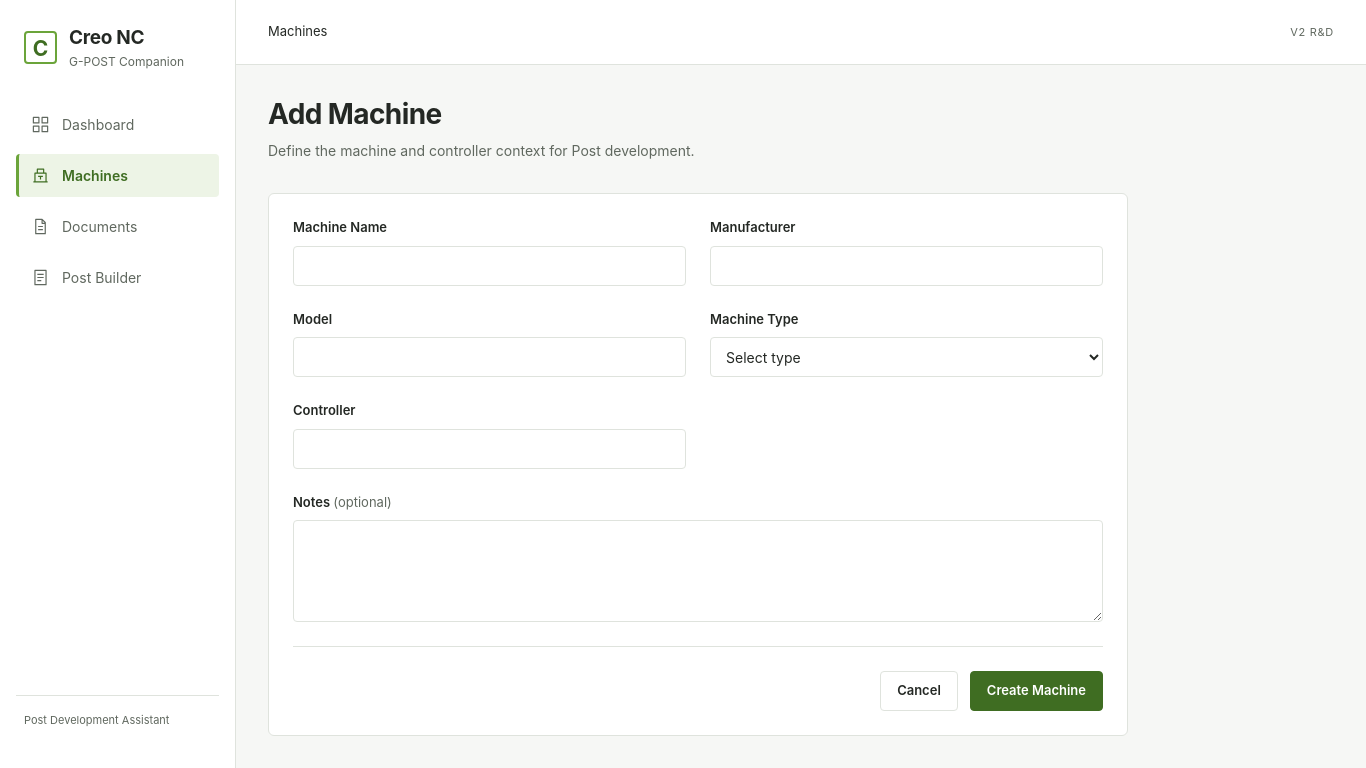
Scenario: Machine management › shows a save failure and re-enables the form
The width and height of the screenshot is (1366, 768).
Type " KLS-1840N Demo " into the field labelled "Machine Name" at (490, 266), box [293,246,686,286]
Type " KENT " into the field labelled "Manufacturer" at (906, 266), box [710,246,1103,286]
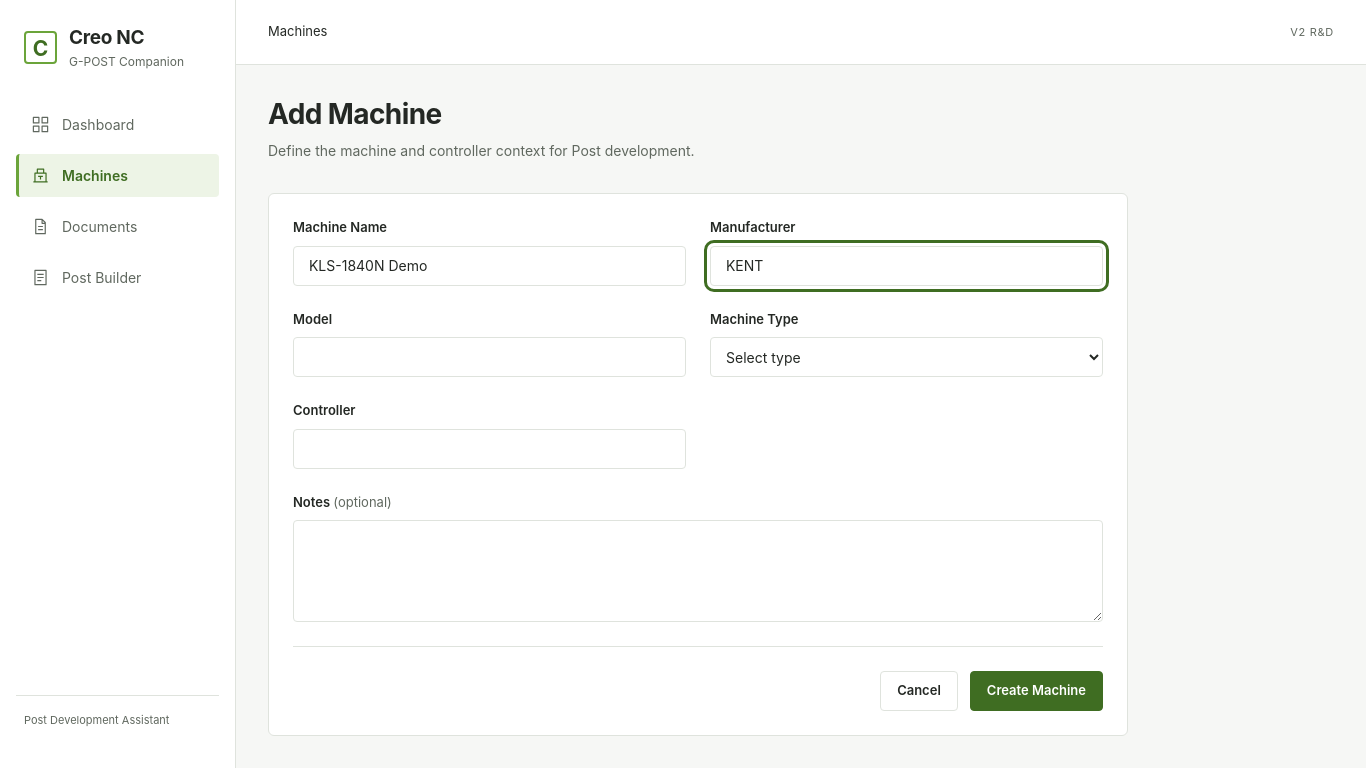
Type " KLS-1840N " into the field labelled "Model" at (490, 357), box [293,337,686,377]
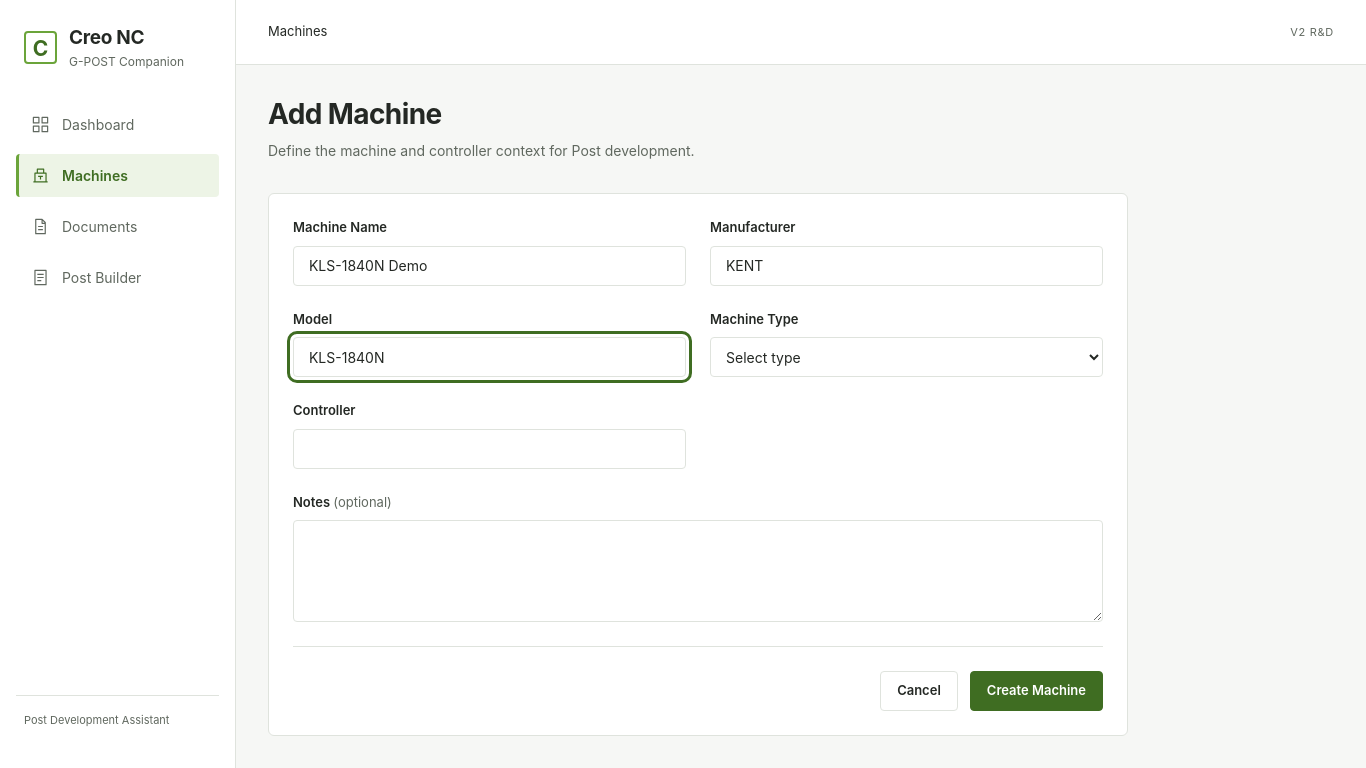
Type " FANUC 0i-TF " into the field labelled "Controller" at (490, 448), box [293,428,686,468]
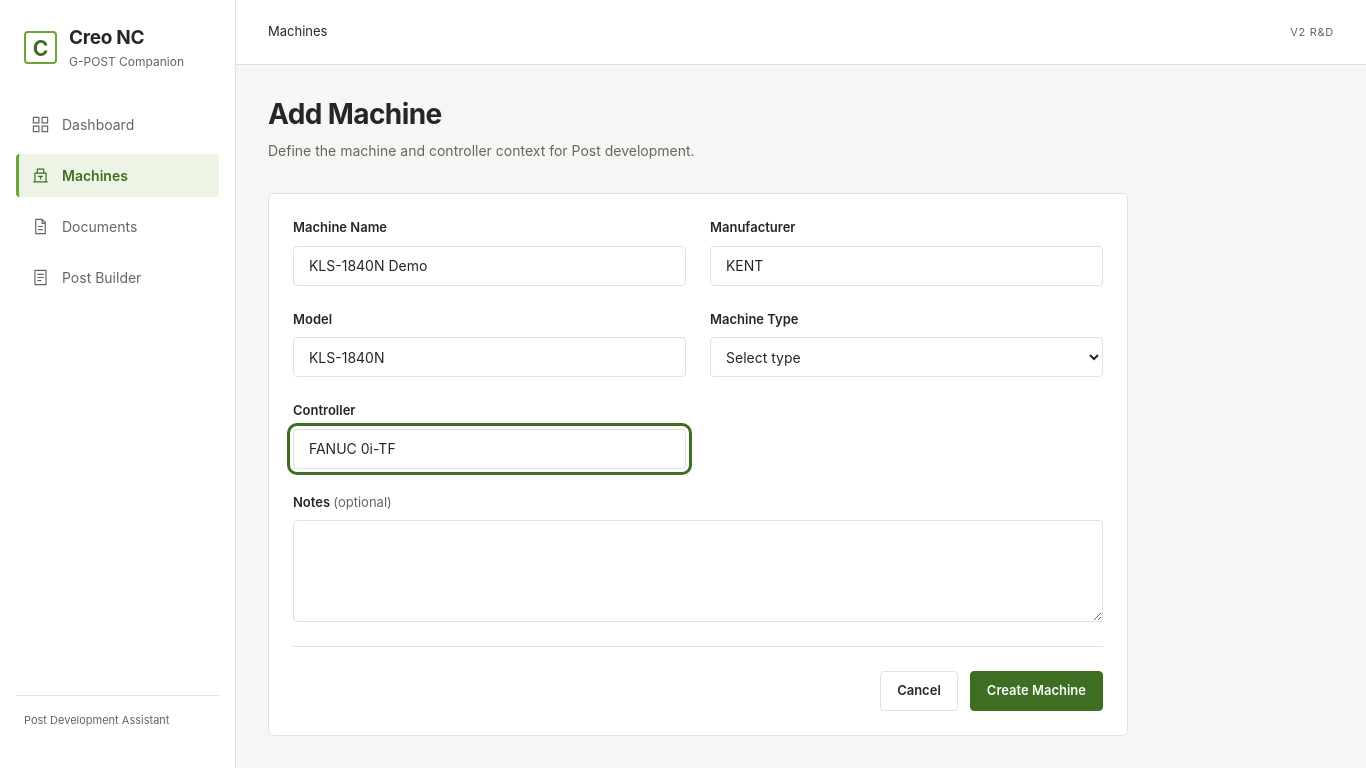
Select "Lathe" in the dropdown labelled "Machine Type" at (906, 357), box [710,337,1103,377]
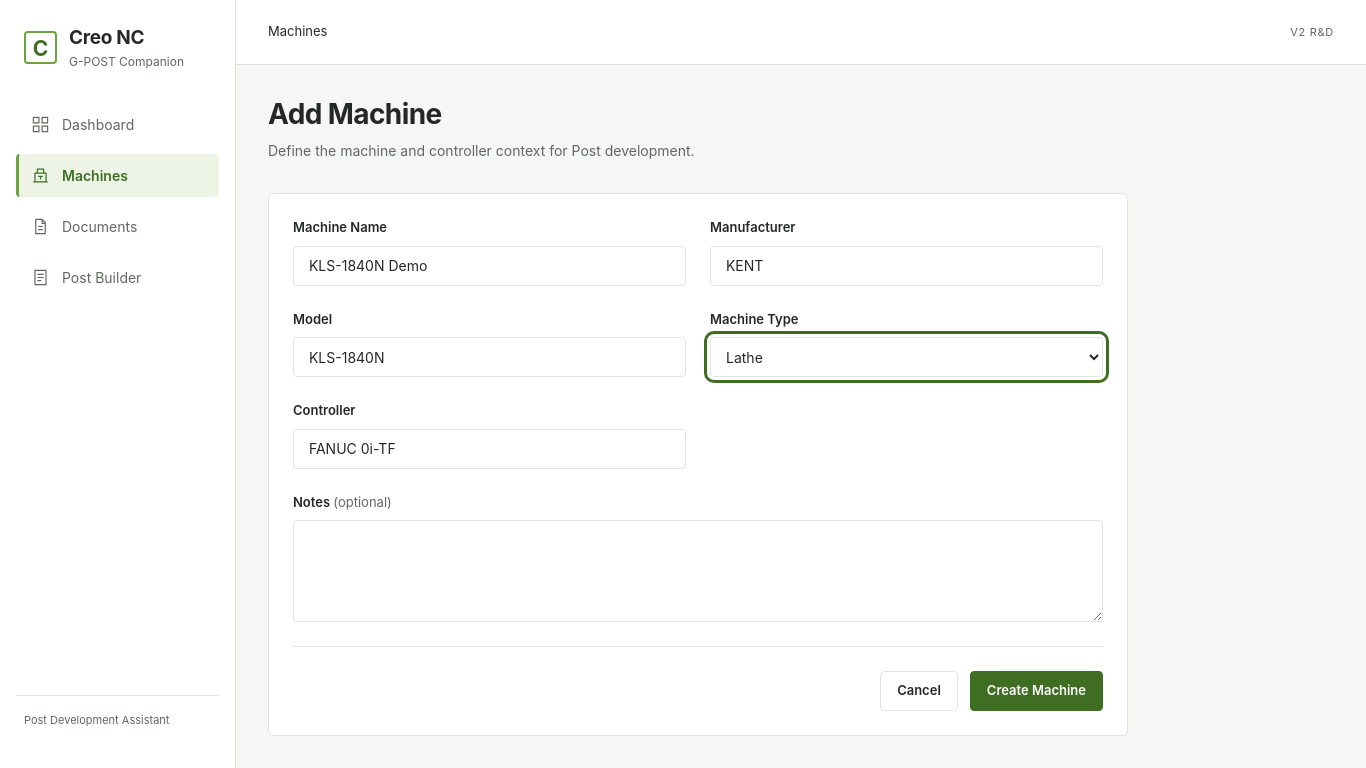
Type " V2 demo machine " into the text box labelled "Notes (optional)" at (698, 571), box [293,520,1103,622]
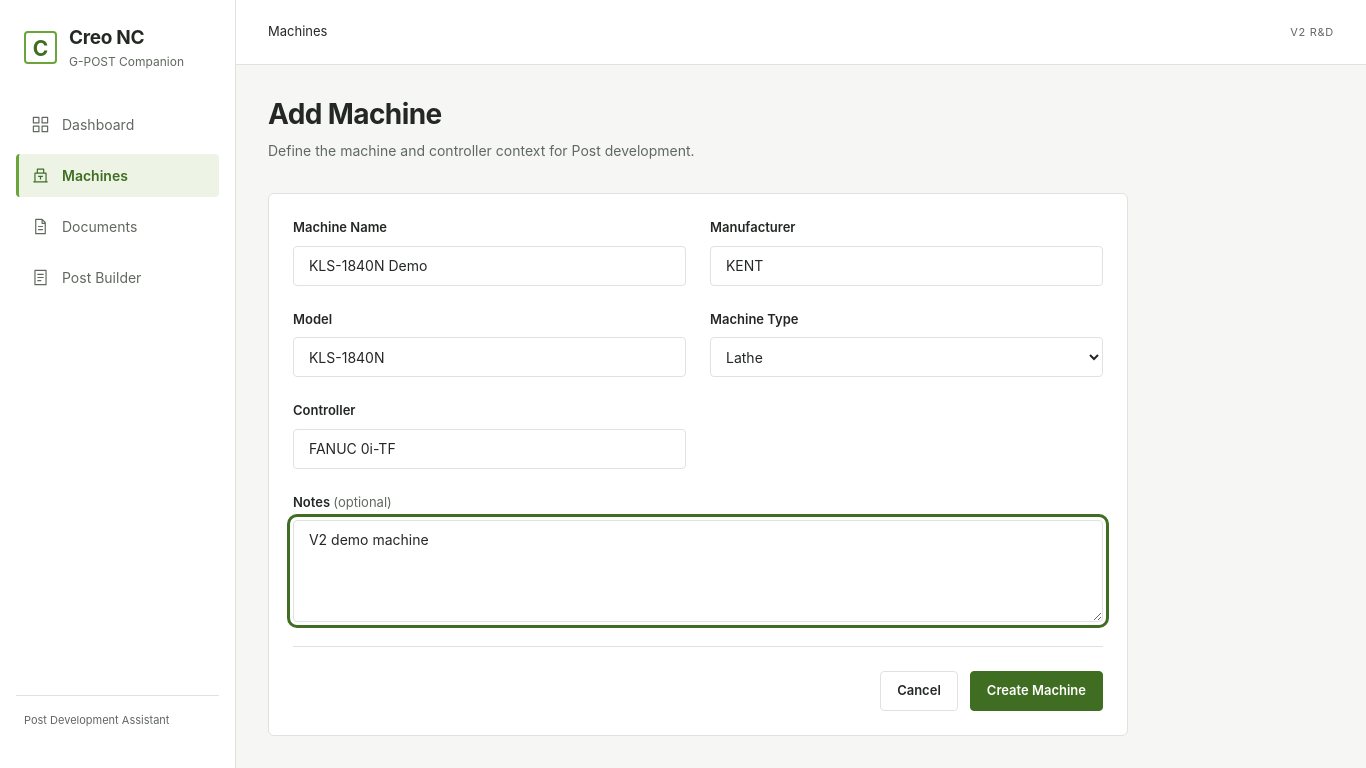
Click the button "Create Machine" at (1036, 691), box [970,671,1103,711]
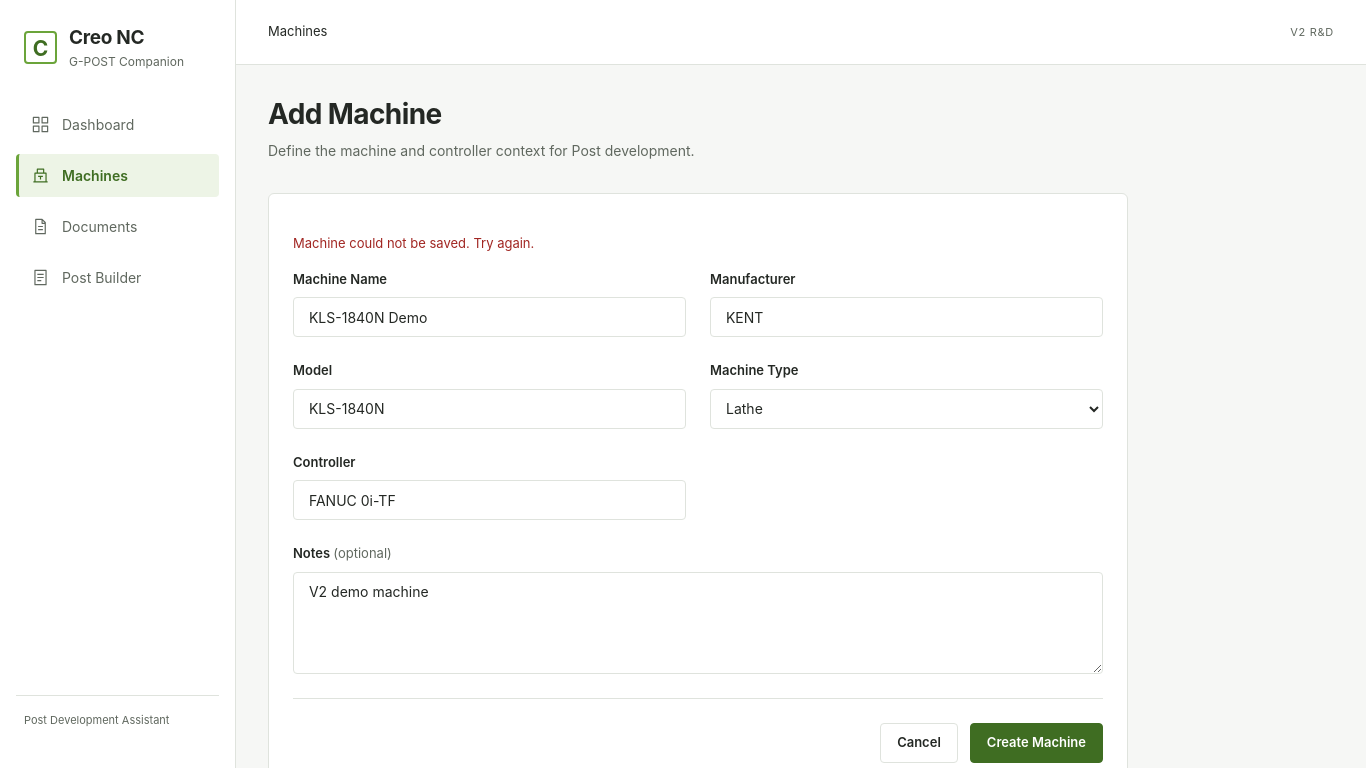
Expected: the button "Create Machine" is enabled, [970,722,1103,762]
Expected: the message reads "Machine could not be saved. Try again.", [293,235,534,251]
